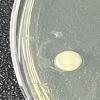white: (54, 50, 81, 70)
